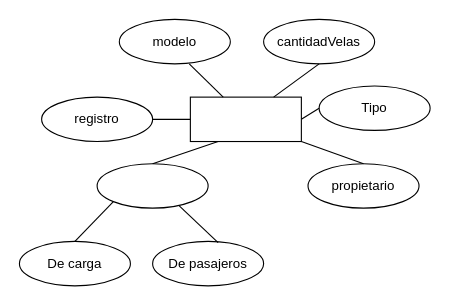
Some shapes in this 450 by 305 pixel diagram are drawn without their labels. Here are the shapes that lost their labels. From the top down, the centre of each, then its label:
At point (245, 119): "DE_VELA".
At point (152, 185): "capacidad".
